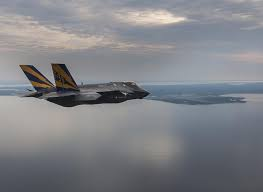fighter: (18, 59, 151, 109)
